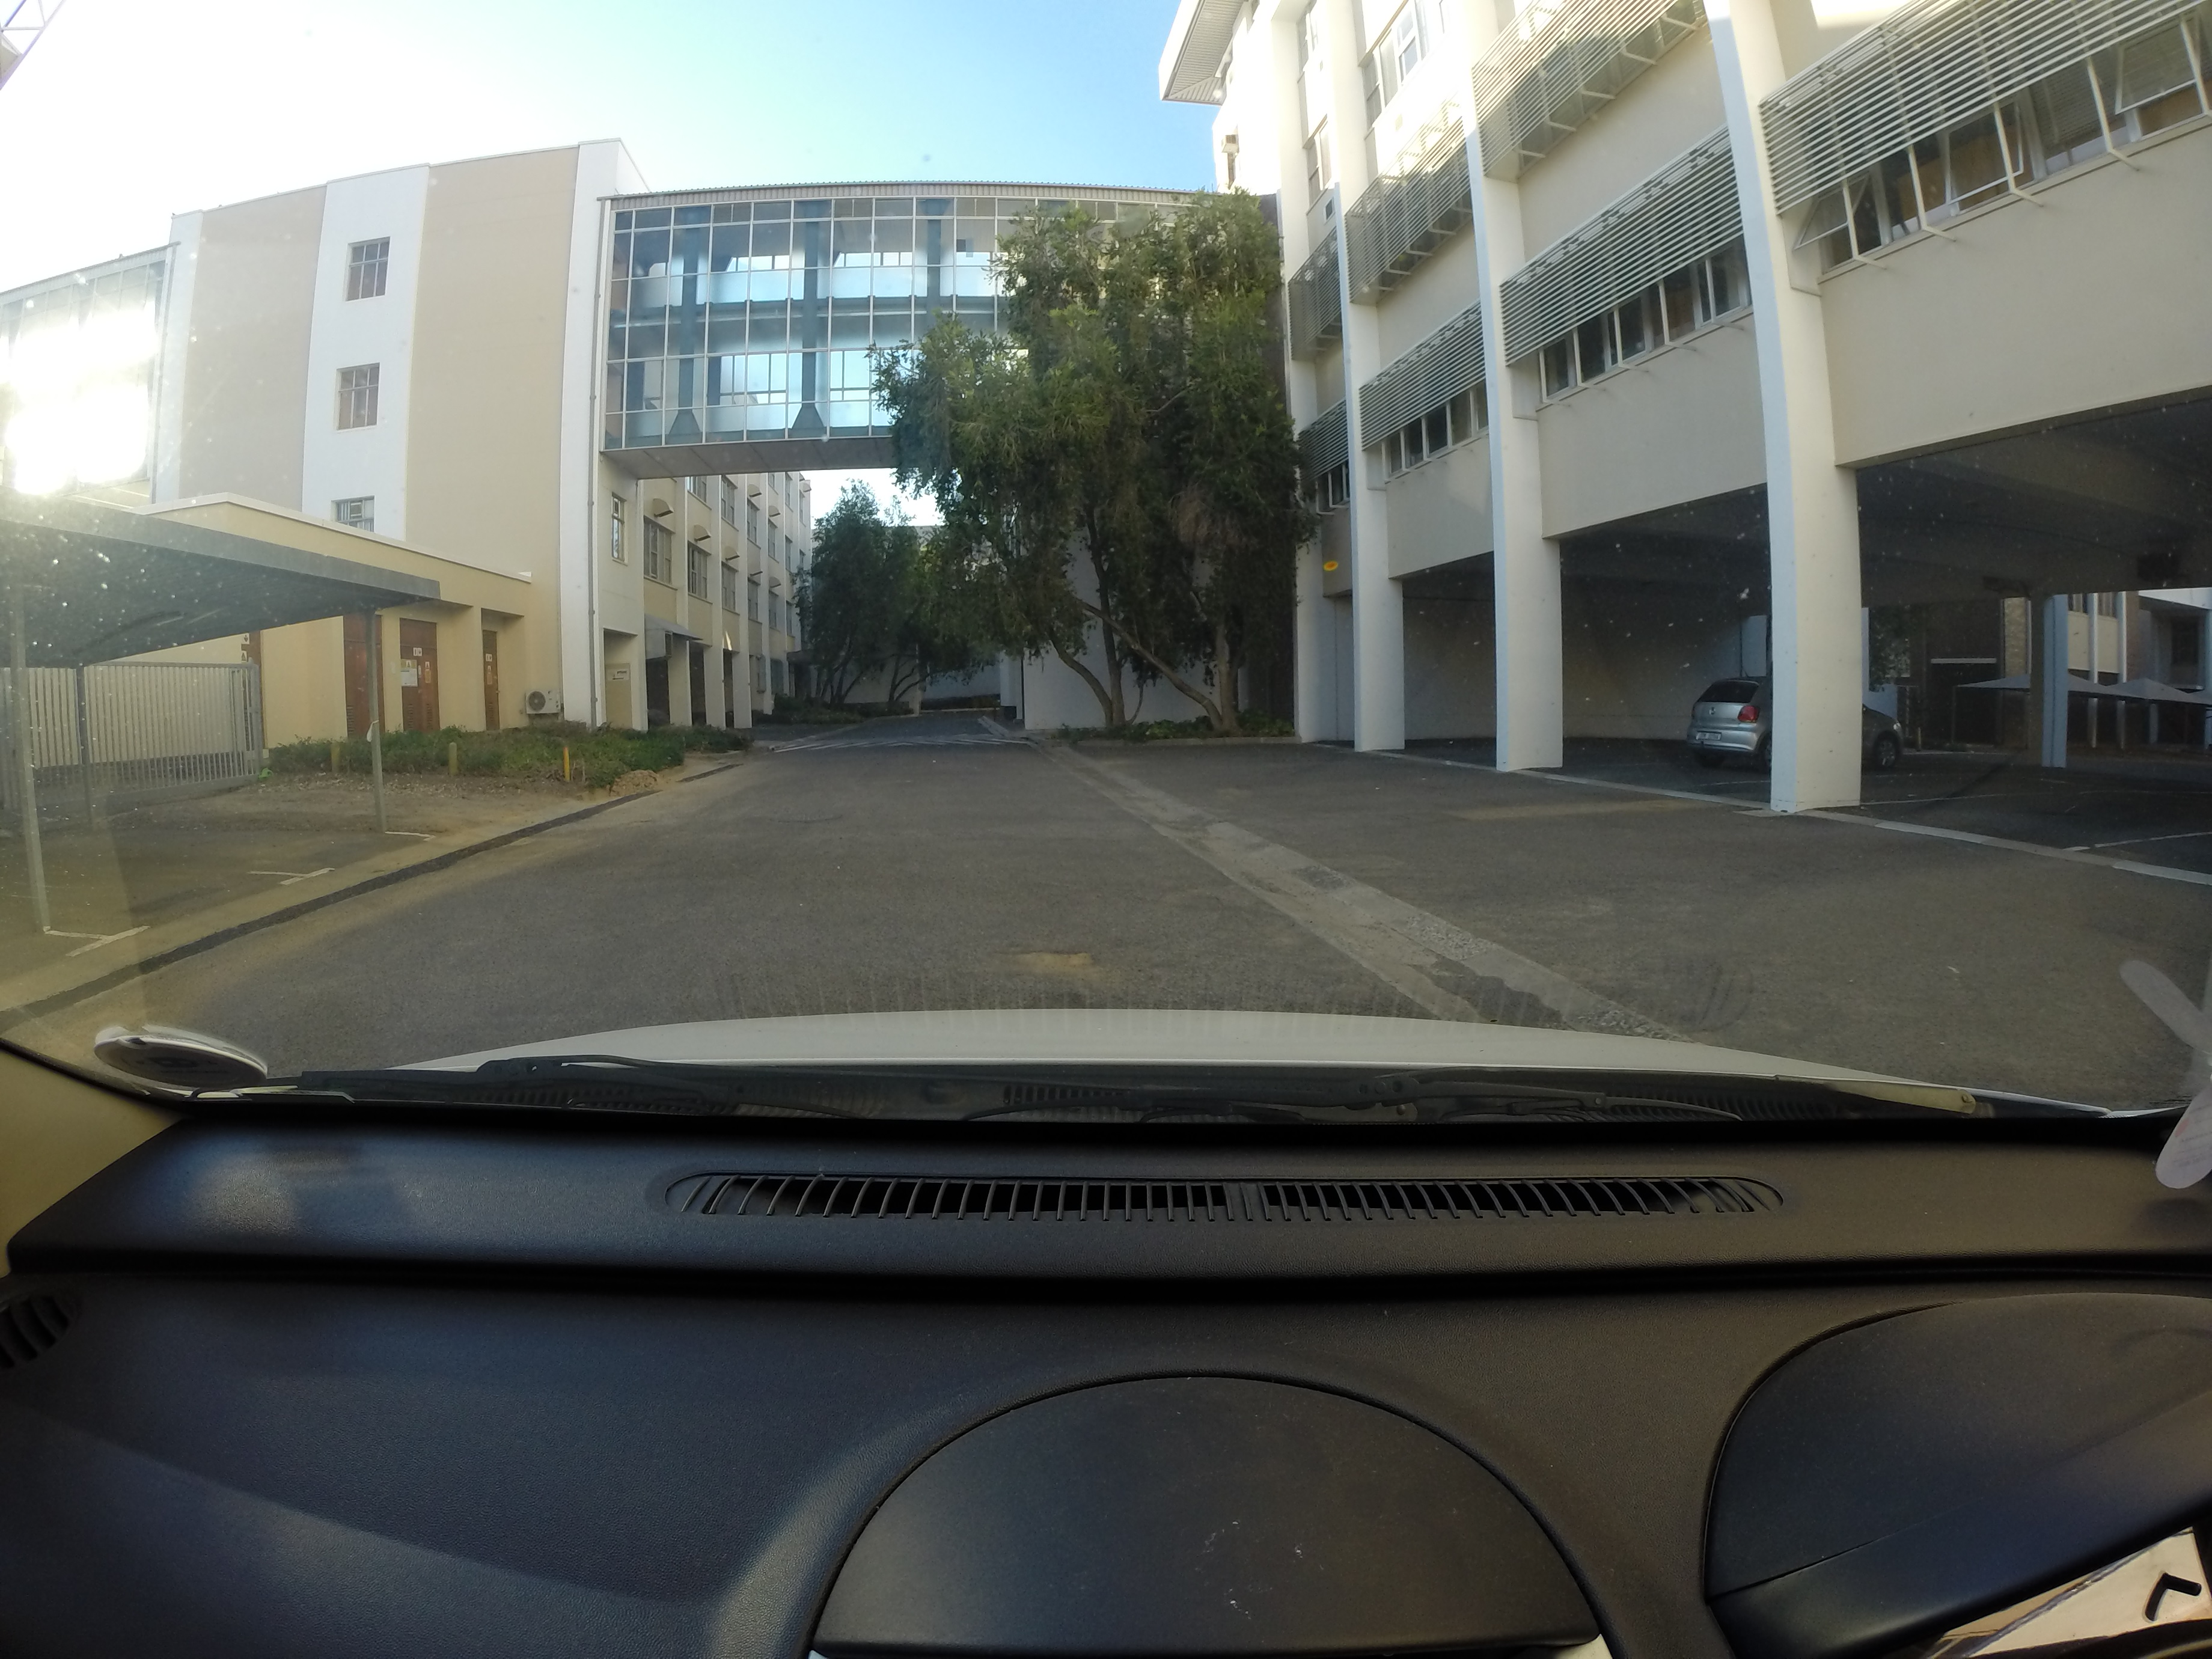pothole: (988, 950, 1136, 972)
